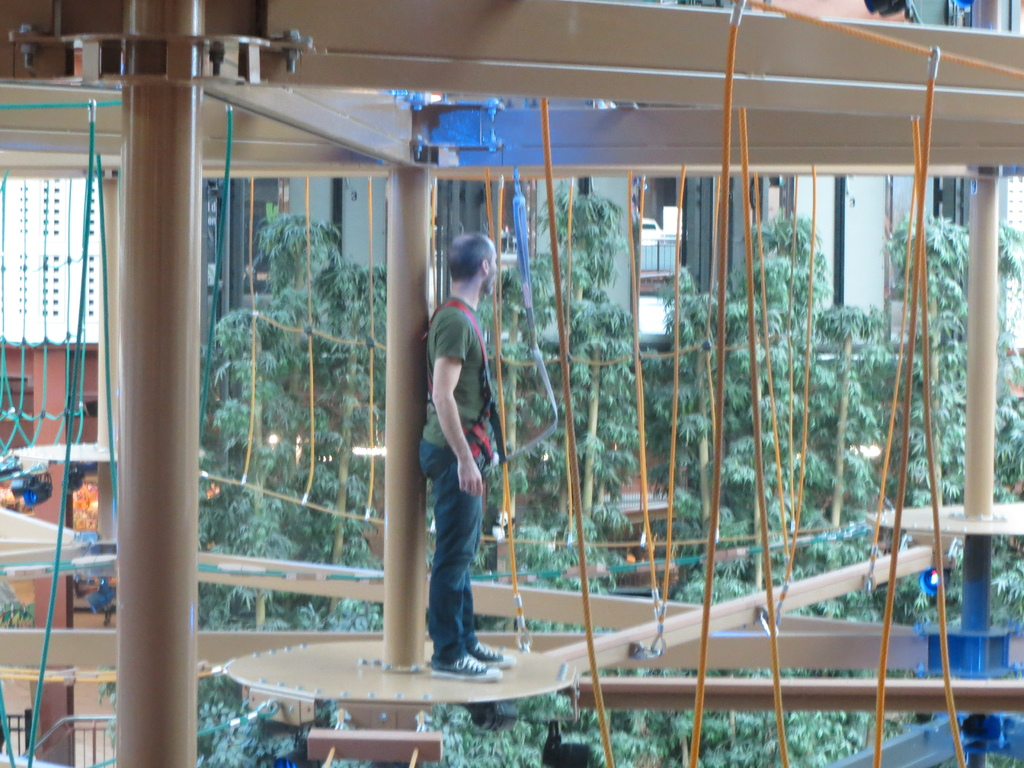Tree: (93, 179, 1023, 767)
